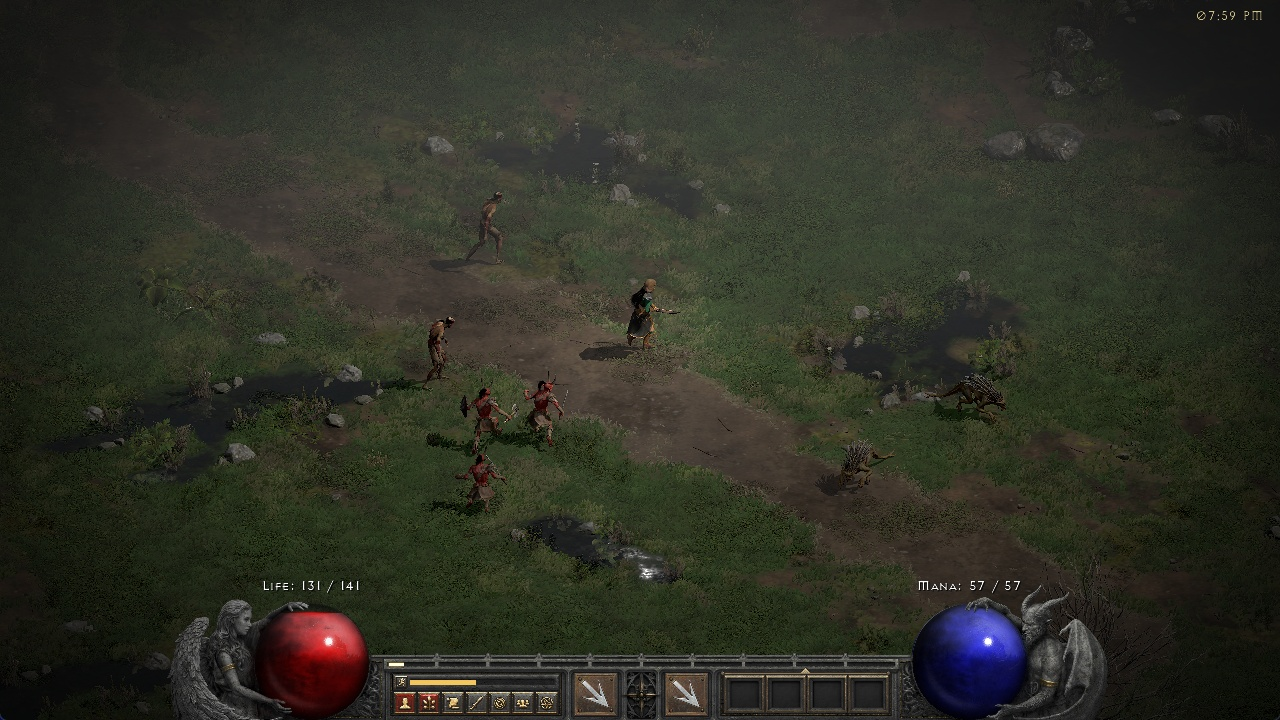fallen: (457, 382, 518, 448), (455, 449, 506, 513), (525, 374, 566, 444)
